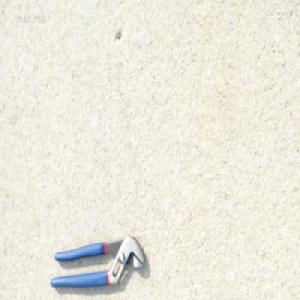Pliers: (48, 232, 146, 288)
